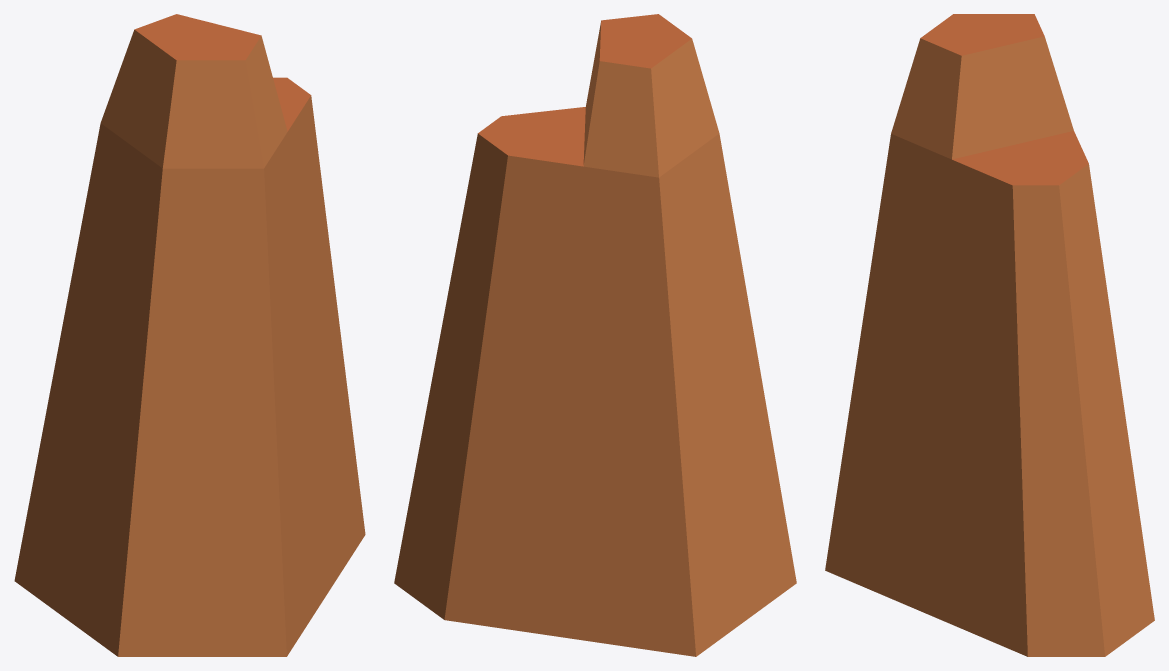
Rendered from mesa_2.fbx.
3 renders of one model, left to right at view 1: azimuth 30°, elevation 25°; view 2: azimuth 150°, elevation 25°; view 3: azimuth 270°, elevation 25°, orthographic. The views are drawn at different scales.
Visible parts, largest first — view 1: mesa_2; view 2: mesa_2; view 3: mesa_2.
Part boxes in pixels (box(x1,y1,x2,y2)): mesa_2: box(14, 14, 365, 656); mesa_2: box(394, 14, 796, 656); mesa_2: box(825, 14, 1154, 656).
Bounding box in the file's own units: 0.4562 × 0.7829 × 0.4365.
1 material, 1 textured.
